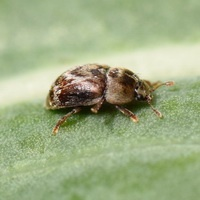insect: (46, 64, 173, 134)
